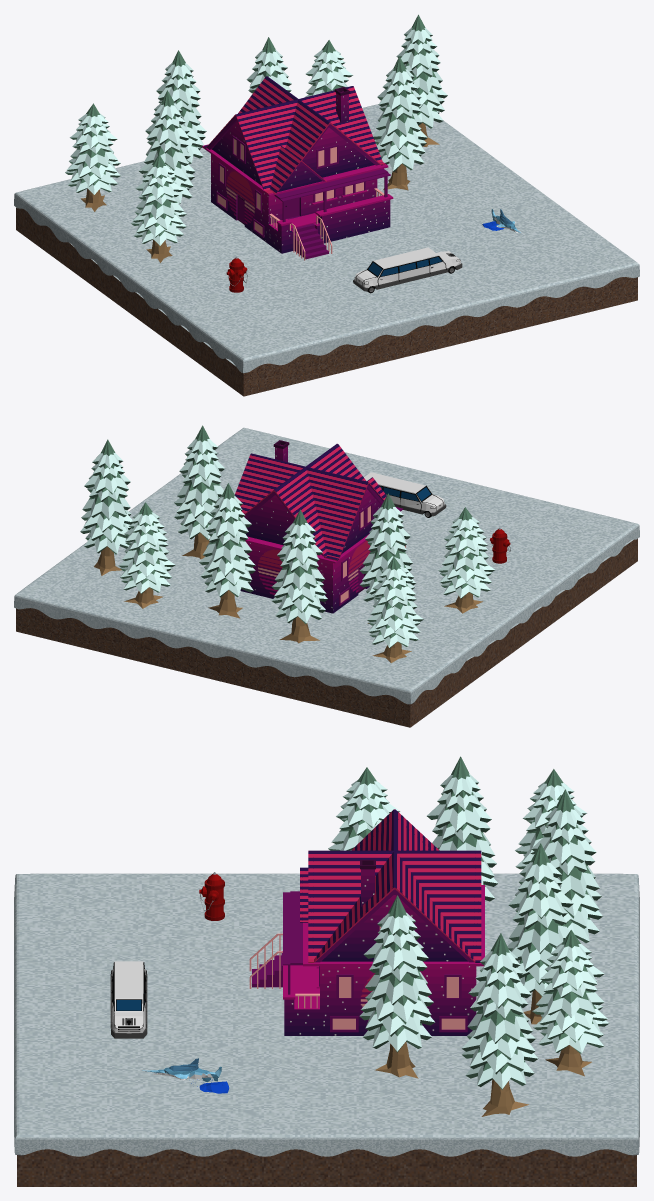
3 renders of one model, top to bottom at view 1: azimuth 30°, elevation 25°; view 2: azimuth 150°, elevation 25°; view 3: azimuth 270°, elevation 25°, orthographic. The views are drawn at different scales.
Parts seen in each view (by area): view 1: Cube.003, Cube.156, VEHICLES_LIMOUSINE, OBJRANDOM_FIRE_HYDRANT; view 2: Cube.003, Cube.156, VEHICLES_LIMOUSINE, OBJRANDOM_FIRE_HYDRANT; view 3: Cube.003, Cube.156, VEHICLES_LIMOUSINE, ANIMAL_PEZ_ESPADA, OBJRANDOM_FIRE_HYDRANT.
Part boxes in pixels (box(x1,y1,x2,y2)): Cube.003: box(14, 14, 639, 396); Cube.156: box(202, 76, 393, 260); VEHICLES_LIMOUSINE: box(353, 247, 462, 293); OBJRANDOM_FIRE_HYDRANT: box(226, 256, 247, 292); Cube.003: box(14, 425, 639, 727); Cube.156: box(235, 440, 405, 613); VEHICLES_LIMOUSINE: box(364, 472, 446, 517); OBJRANDOM_FIRE_HYDRANT: box(490, 527, 510, 563); Cube.003: box(14, 756, 639, 1186); Cube.156: box(249, 809, 484, 1035); VEHICLES_LIMOUSINE: box(110, 961, 147, 1038); ANIMAL_PEZ_ESPADA: box(142, 1058, 229, 1093); OBJRANDOM_FIRE_HYDRANT: box(199, 872, 224, 920).
Bounding box in the file's own units: 4040 × 1700 × 4040.
Materials: 32 (5 with a texture image).
